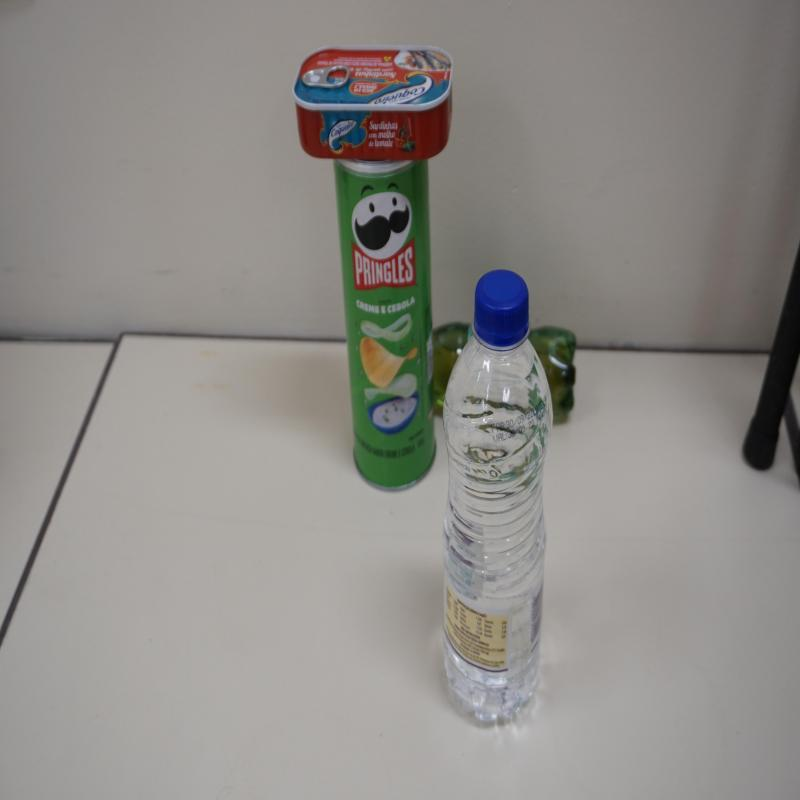Guarana: (434, 324, 576, 424)
Pringles: (333, 162, 435, 493)
TunaCan: (293, 46, 454, 162)
Water: (442, 270, 553, 730)
